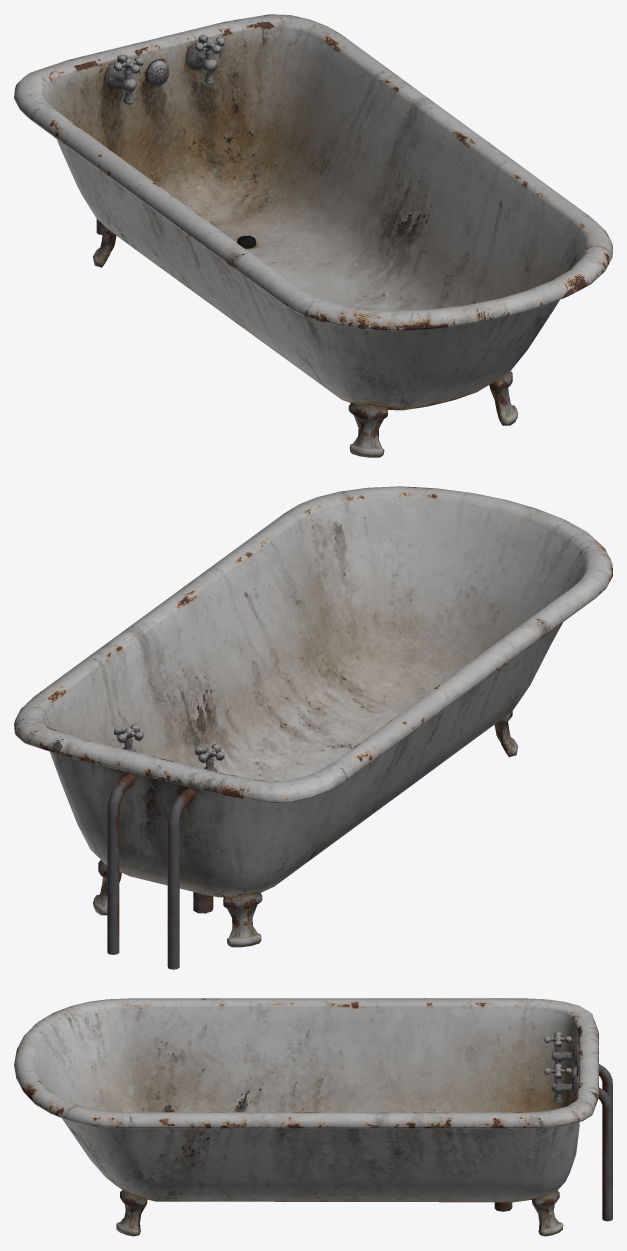
Rendered from Bath_01.fbx.
3 views of the same model, one above another, from view 1: azimuth 30°, elevation 25°; view 2: azimuth 150°, elevation 25°; view 3: azimuth 270°, elevation 25° (orthographic). The views are drawn at different scales.
Visible parts, largest first — view 1: polySurface151; view 2: polySurface151; view 3: polySurface151.
Part boxes in pixels (x1,y1,x2,y2): polySurface151: (14,14,612,457); polySurface151: (14,486,612,969); polySurface151: (14,998,612,1236).
Size of the model in its own units: 105 by 63.08 by 216.
